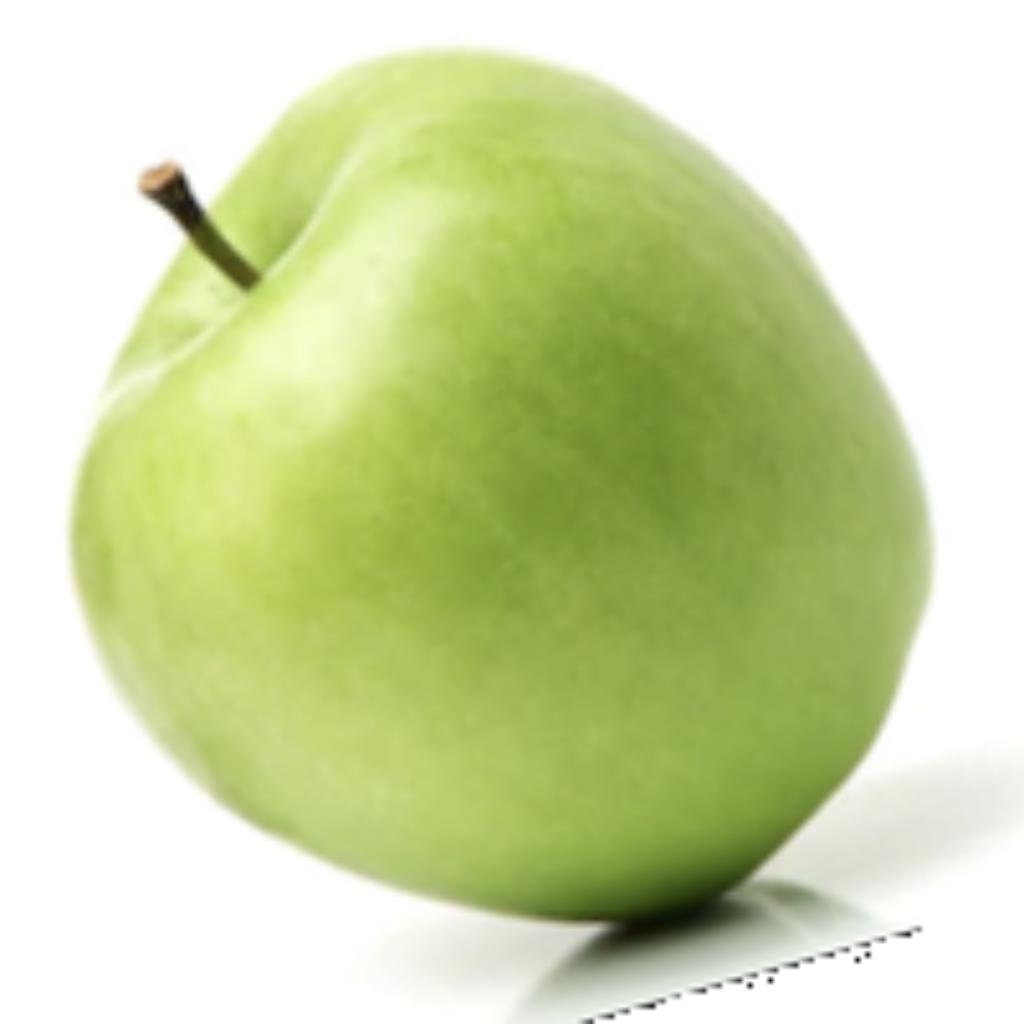apple: (61, 41, 1019, 1019)
